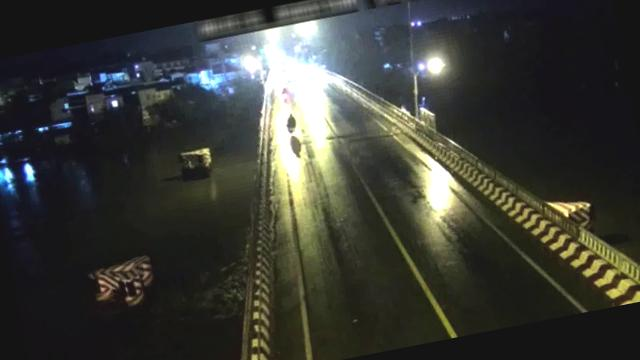Bike: (283, 110, 302, 136)
